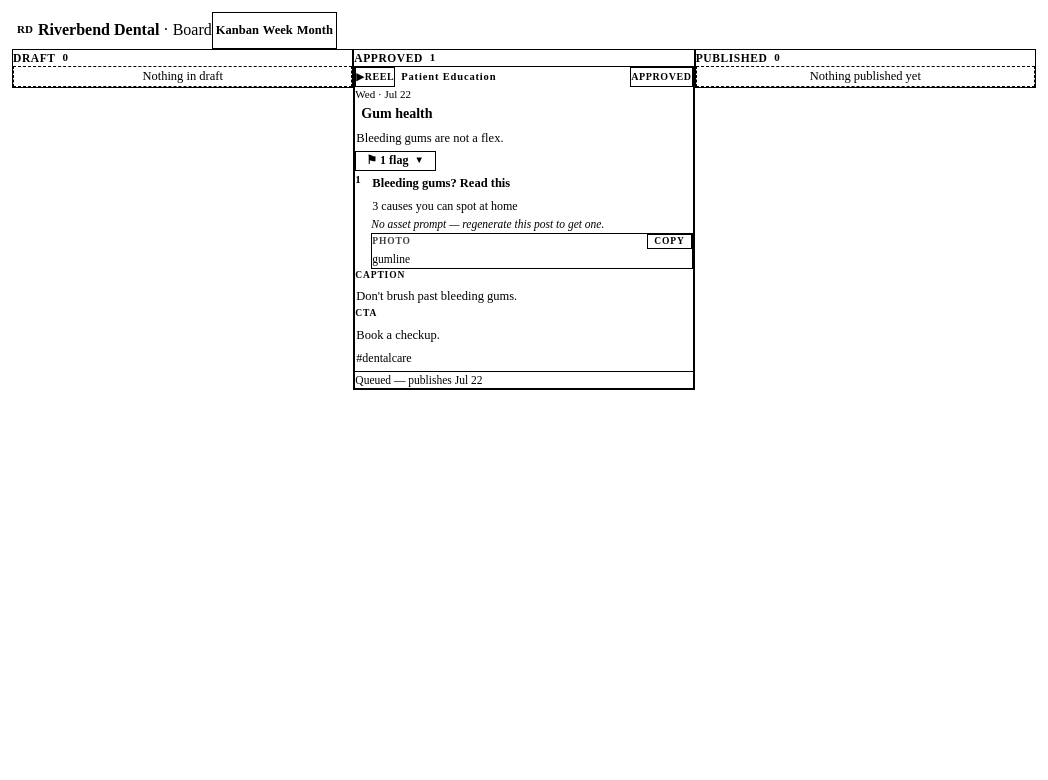
Test: Board: month-grid cells summarise rather than expand › shows topic, format, status, and a flag indicator — not the whole card
Click the button "Month" at (315, 30), box [296, 15, 334, 46]
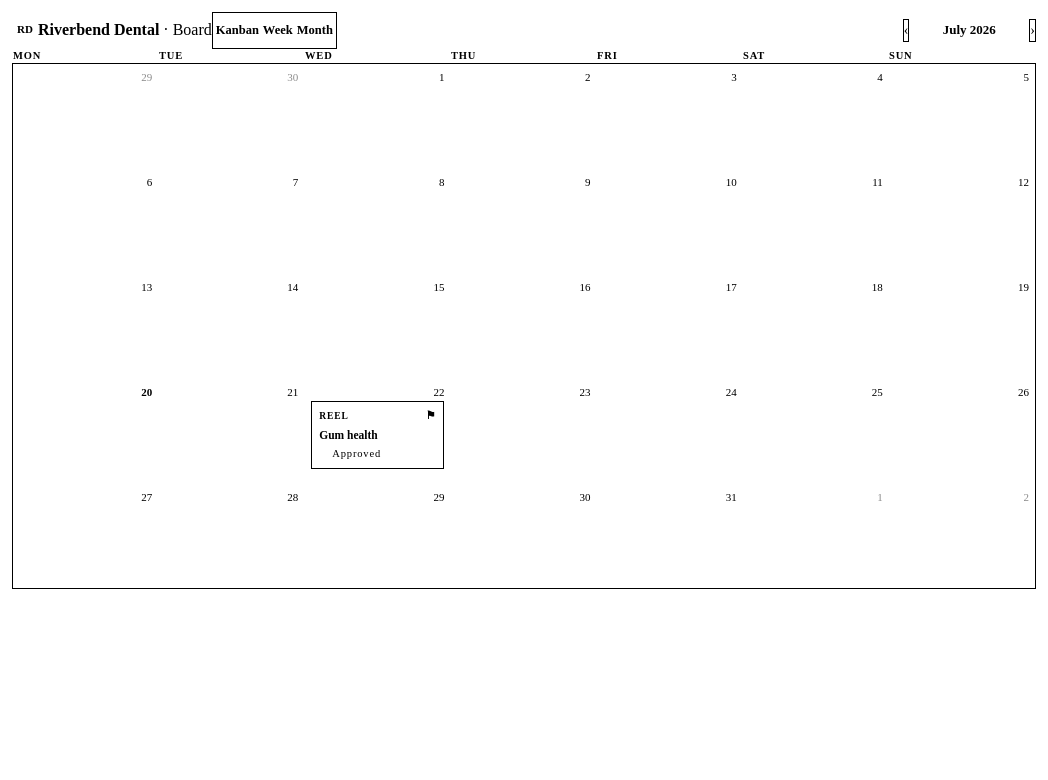
Expected: the text "Gum health" is shown, [319, 429, 378, 441]
Expected: the text "reel ⚑" is shown, [319, 408, 436, 424]
